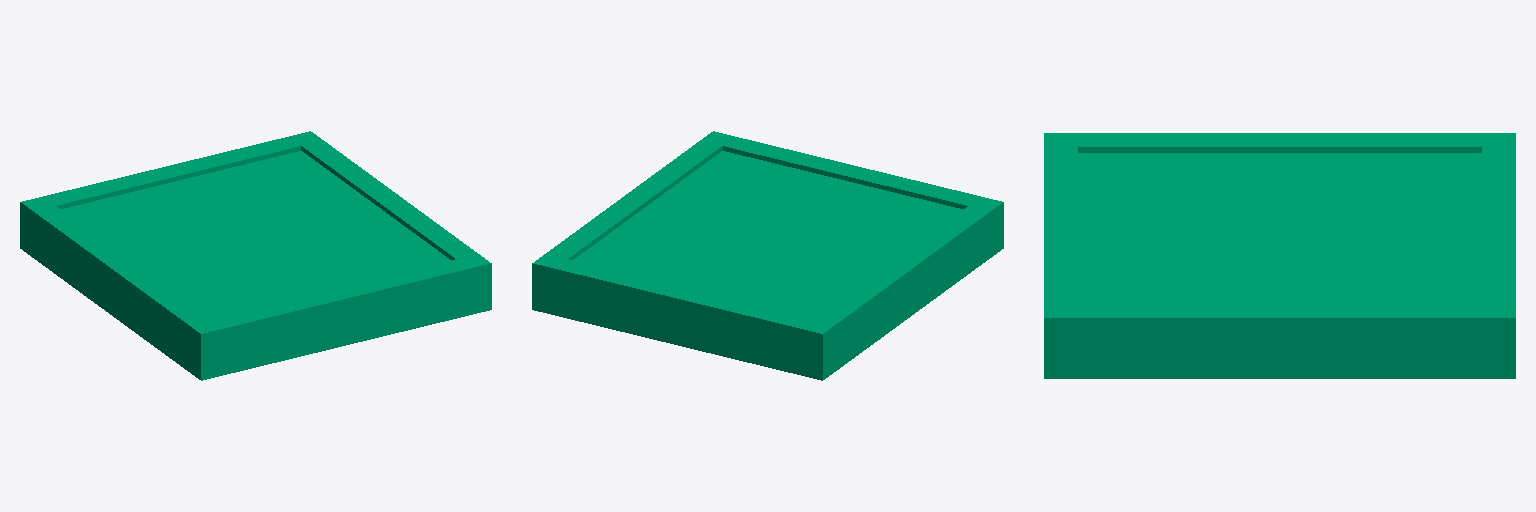
robot.urdf — bin:
<?xml version="1.0"?>
<robot name="bin">
  <link name="bin_origin">
    <visual>
      	<geometry>
          	<mesh filename="package://process_visualizer/resources/bin.stl"
                scale="1 1 1"/>
      	</geometry>
	  	<material name="ABS" >
          	<color rgba="0.0 0.7 0.5 1.0" />
         </material> 	
    </visual>
    <inertial>
      <origin xyz="0 0 1" rpy="0 0 0"/>
      <mass value="1"/>
      <inertia
        ixx="1.0" ixy="0.0" ixz="0.0"
        iyy="1.0" iyz="0.0"
        izz="1.0"/>
    </inertial>

  </link>
  <link name="world"/>

  <joint name="fixed" type="fixed">
    <parent link="world"/>
    <child link="bin_origin"/>
  </joint>

  <gazebo reference="bin_origin">
    <material>Gazebo/Red</material>
  </gazebo>

</robot>

--- Facts derived from the render (not from the file) ---
3 views of the same robot in one strip: view 1: azimuth 30°, elevation 25°; view 2: azimuth 150°, elevation 25°; view 3: azimuth 270°, elevation 25° (orthographic).
Robot: bin — 2 links, 1 joints (1 fixed); root link world; default pose: all joints at 0.
Links seen in each view (by area): view 1: bin_origin; view 2: bin_origin; view 3: bin_origin.
Link boxes in pixels (<box>): bin_origin: <box>20,131,491,380</box>; bin_origin: <box>532,131,1003,380</box>; bin_origin: <box>1044,133,1515,378</box>.
Size in the robot's own frame: 0.325 by 0.35 by 0.05 metres.
1 mesh visuals loaded from 1 distinct referenced files (1 binary STL).